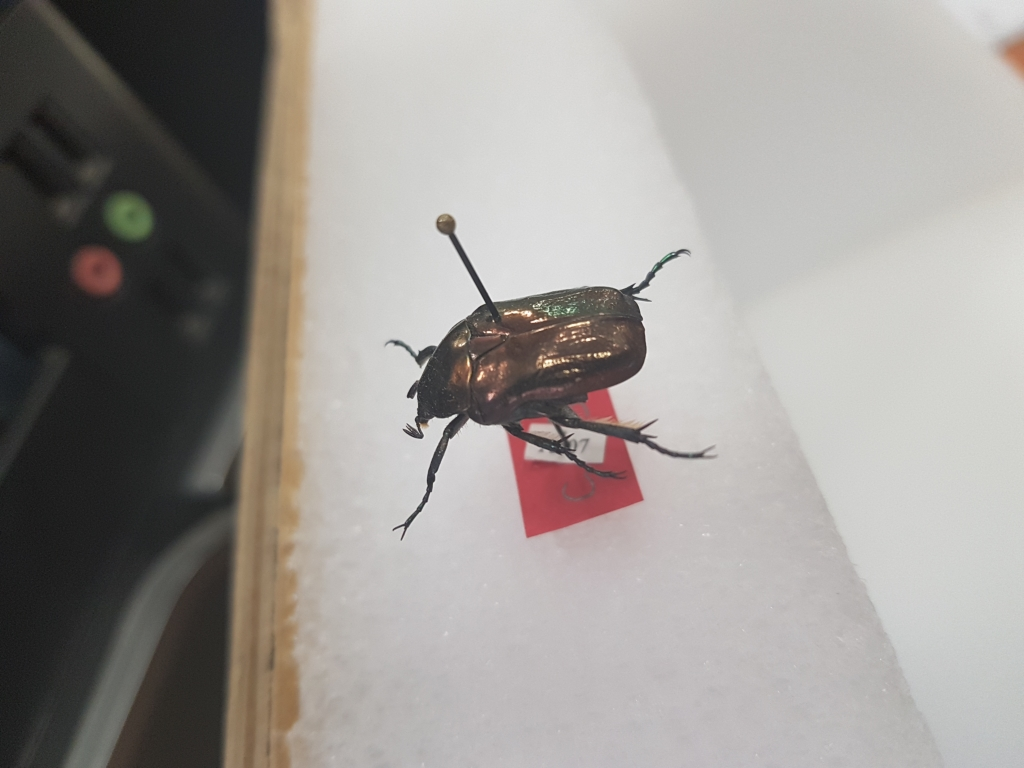Protaetia_besucheti: (371, 240, 728, 544)
